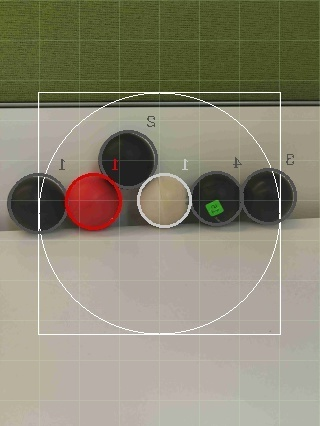Pelota blanca: (135, 172, 193, 230)
Pelota negra: (7, 172, 68, 232), (98, 129, 159, 187), (242, 166, 300, 224), (191, 169, 241, 227)
Pelota roja: (63, 169, 124, 232)
